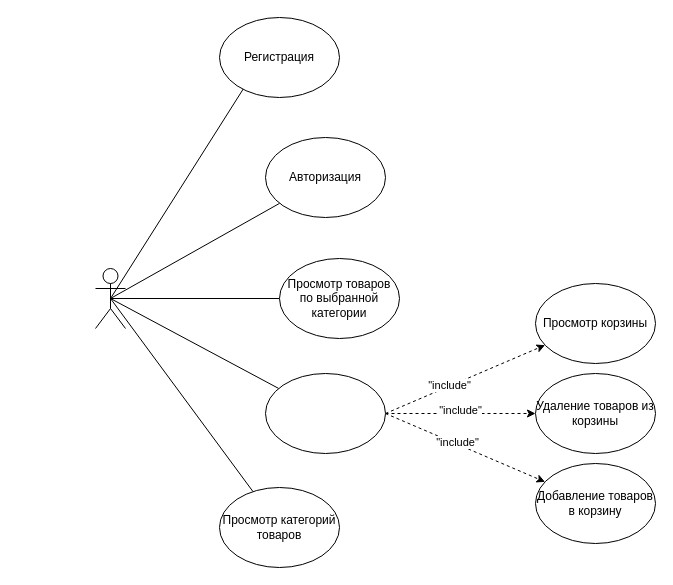
The diagram is 673 pixels wide and 585 high, and some of its shapes have lost their labels. Each missing label, with the centre of its shape:
Взаимодействие с корзиной: (325,413)
Неавторизованный пользователь: (110,298)
